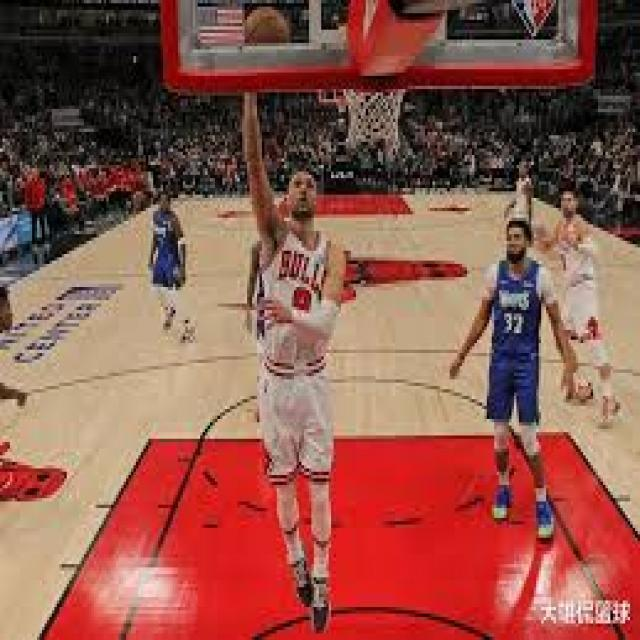rim: (247, 6, 292, 56)
